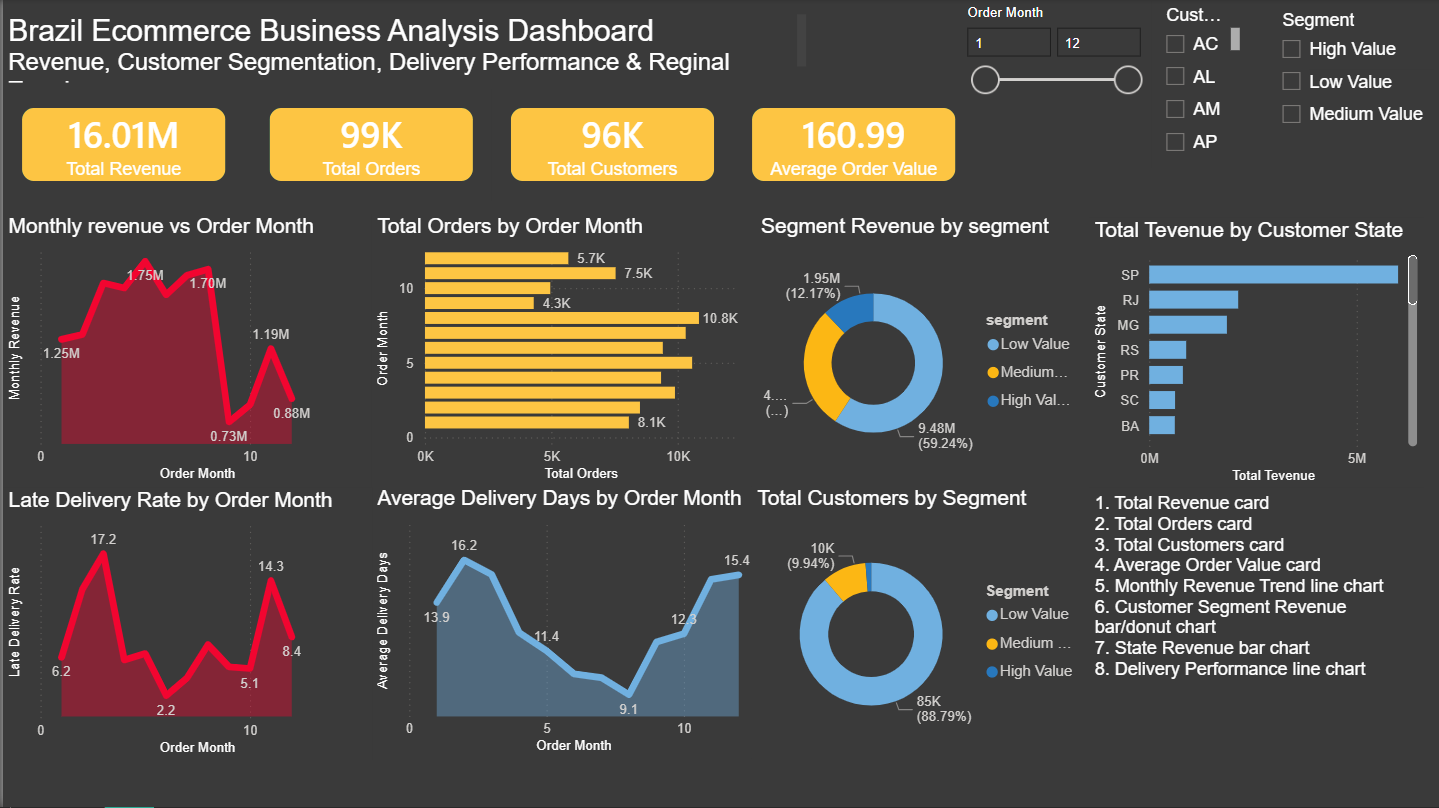

This screenshot's page, from the dashboard's own definition file:
{"tool":"powerbi","page":{"name":"Page 1","canvas":[1280,720],"ordinal":0},"visuals":[{"type":"cardVisual","title":"Total Revenue","fields":{"Data":["Sum(dashboard_summary_kpi.total_revenue)"]},"box":[0,79.6,215.2,99.5],"z":0},{"type":"cardVisual","fields":{"Data":["Sum(dashboard_summary_kpi.total_orders)"]},"box":[220.2,79.6,215.2,99.5],"z":1000},{"type":"cardVisual","fields":{"Data":["Sum(dashboard_summary_kpi.total_customers)"]},"box":[435.4,79.6,215.2,99.5],"z":2000},{"type":"cardVisual","fields":{"Data":["Sum(dashboard_summary_kpi.avg_order_value)"]},"box":[650.6,79.6,215.2,99.5],"z":3000},{"type":"lineChart","title":"Monthly revenue Trend","fields":{"Category":["monthly_revenue_kpi.order_month"],"Y":["Sum(monthly_revenue_kpi.monthly_revenue)"]},"box":[0,191.6,328.4,242.6],"z":4000},{"type":"clusteredBarChart","title":"Total Orders Volume","fields":{"Category":["monthly_revenue_kpi.order_month"],"Y":["Sum(monthly_revenue_kpi.total_orders)"]},"box":[328.4,191.6,342.1,242.6],"z":5000},{"type":"donutChart","title":"Revenue by Customer Segment","fields":{"Y":["Sum(customer_segment_kpi.segment_revenue)"],"Category":["customer_segment_kpi.segment"]},"box":[670.5,191.6,297.3,245.1],"z":6000},{"type":"donutChart","title":"Customers by Segment","fields":{"Category":["customer_segment_kpi.segment"],"Y":["Sum(customer_segment_kpi.total_customers)"]},"box":[666.8,434.1,301,242.6],"z":7000},{"type":"lineChart","title":"Average Delivery Days Trend","fields":{"Category":["delivery_performance_kpi.order_month"],"Y":["Sum(delivery_performance_kpi.avg_delivery_days)"]},"box":[328.4,434.1,342.1,242.6],"z":8000},{"type":"lineChart","title":"Late Delivery Rate Trend","fields":{"Category":["delivery_performance_kpi.order_month"],"Y":["Sum(delivery_performance_kpi.late_delivery_rate)"]},"box":[0,435.4,328.4,242.6],"z":9000},{"type":"clusteredBarChart","title":"Revenue by Customer State","fields":{"Category":["state_revenue_kpi.customer_state"],"Y":["Sum(state_revenue_kpi.total_revenue)"]},"box":[967.8,195.3,297.3,241.3],"z":10000},{"type":"slicer","fields":{"Values":["monthly_revenue_kpi.order_month"]},"box":[845.9,0,176.6,98.3],"z":11000},{"type":"slicer","fields":{"Values":["customer_segment_kpi.segment"]},"box":[1127,5,153,150.5],"z":12000},{"type":"slicer","fields":{"Values":["state_revenue_kpi.customer_state"]},"box":[1022.5,0,83.3,150.5],"z":13000},{"type":"textbox","box":[0,8.1,534.9,70.9],"z":14000},{"type":"textbox","box":[967.8,435.4,297.3,242.6],"z":15000}]}

Visuals, with their boxes in screenshot pixels (x1, y1, x2, y2), scaled from the page's 1280x720 canvas onto the 1439x808 screenshot:
"Total Revenue" cardVisual: box(0, 89, 242, 201)
cardVisual - Sum(dashboard_summary_kpi.total_orders): box(248, 89, 489, 201)
cardVisual - Sum(dashboard_summary_kpi.total_customers): box(489, 89, 731, 201)
cardVisual - Sum(dashboard_summary_kpi.avg_order_value): box(731, 89, 973, 201)
"Monthly revenue Trend" lineChart: box(0, 215, 369, 487)
"Total Orders Volume" clusteredBarChart: box(369, 215, 754, 487)
"Revenue by Customer Segment" donutChart: box(754, 215, 1088, 490)
"Customers by Segment" donutChart: box(750, 487, 1088, 759)
"Average Delivery Days Trend" lineChart: box(369, 487, 754, 759)
"Late Delivery Rate Trend" lineChart: box(0, 489, 369, 761)
"Revenue by Customer State" clusteredBarChart: box(1088, 219, 1422, 490)
slicer - monthly_revenue_kpi.order_month: box(951, 0, 1150, 110)
slicer - customer_segment_kpi.segment: box(1267, 6, 1438, 175)
slicer - state_revenue_kpi.customer_state: box(1150, 0, 1243, 169)
textbox: box(0, 9, 601, 89)
textbox: box(1088, 489, 1422, 761)
